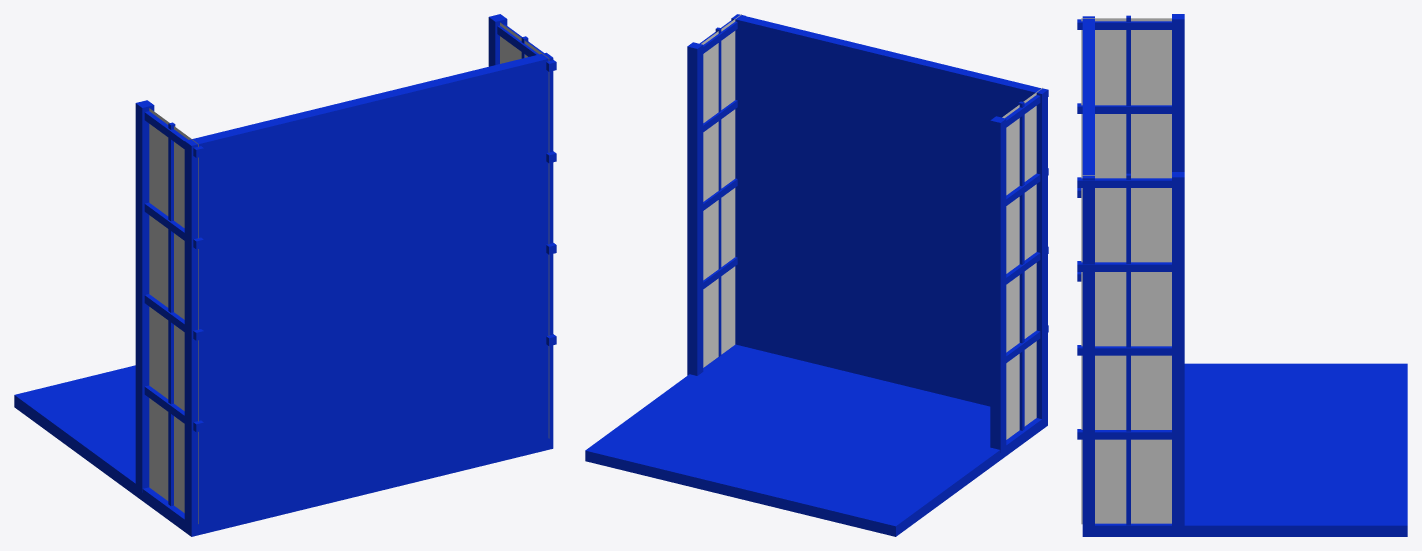
3 views of the same model, side by side, from view 1: azimuth 30°, elevation 25°; view 2: azimuth 150°, elevation 25°; view 3: azimuth 270°, elevation 25° (orthographic). The views are drawn at different scales.
Parts seen in each view (by area): view 1: Plane; view 2: Plane; view 3: Plane.
Part boxes in pixels (bbox=[...]): Plane: bbox=[14, 14, 556, 536]; Plane: bbox=[585, 14, 1048, 536]; Plane: bbox=[1077, 14, 1407, 536].
Size of the model in its own units: 8.35 by 7.14 by 8.6.
